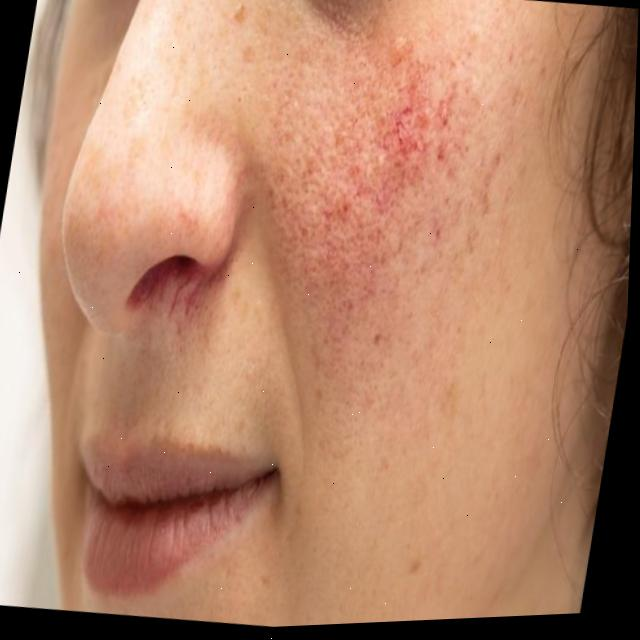Rosacea: (234, 20, 509, 372)
